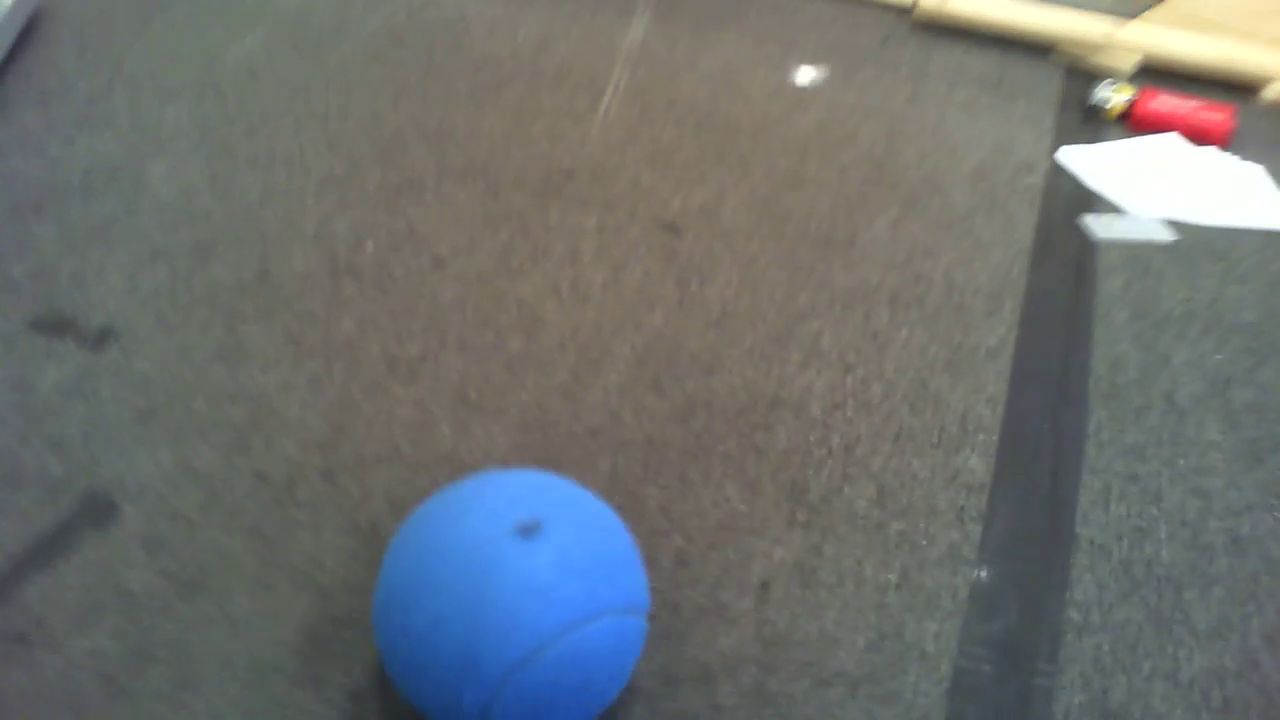blue_cargo: (370, 463, 664, 720)
